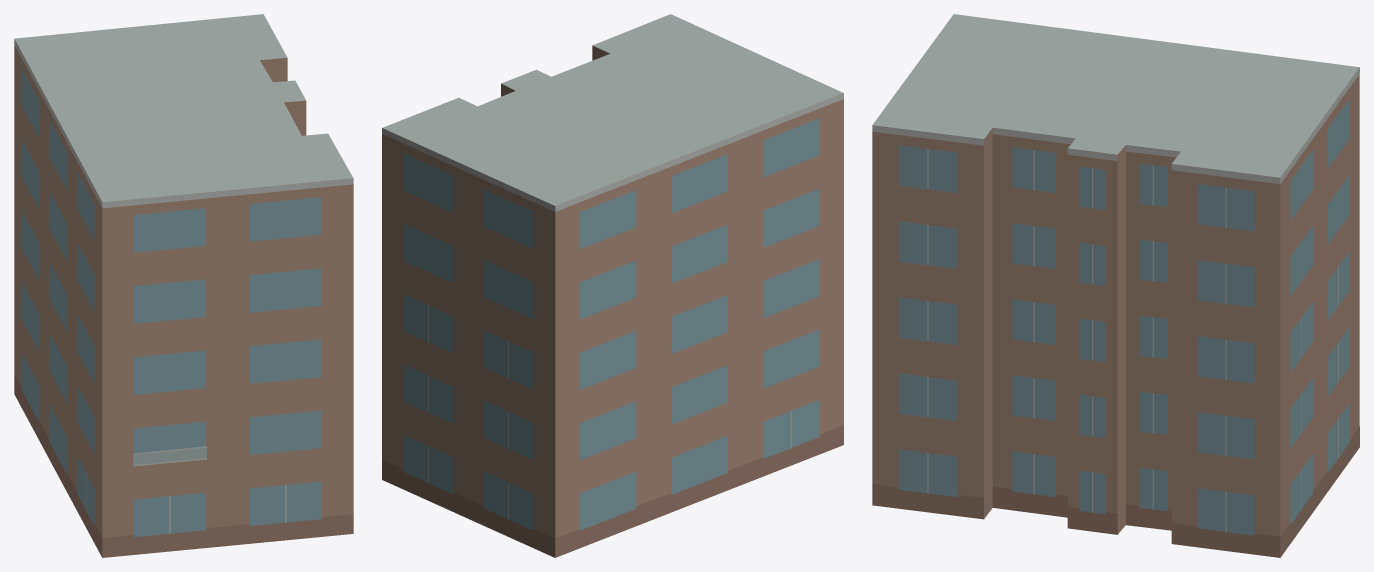
Rendered from survey-upis-32874830.glb.
3 views of the same model, side by side, from view 1: azimuth 30°, elevation 25°; view 2: azimuth 150°, elevation 25°; view 3: azimuth 270°, elevation 25° (orthographic). The views are drawn at different scales.
Parts seen in each view (by area): view 1: survey-upis-32874830.tmp; view 2: survey-upis-32874830.tmp; view 3: survey-upis-32874830.tmp.
Boxes of the visible parts, x1=… form: survey-upis-32874830.tmp: x1=14, y1=14, x2=353, y2=557; survey-upis-32874830.tmp: x1=382, y1=14, x2=843, y2=557; survey-upis-32874830.tmp: x1=872, y1=14, x2=1359, y2=557.
Size of the model in its own units: 13.22 by 14.3 by 16.63.
